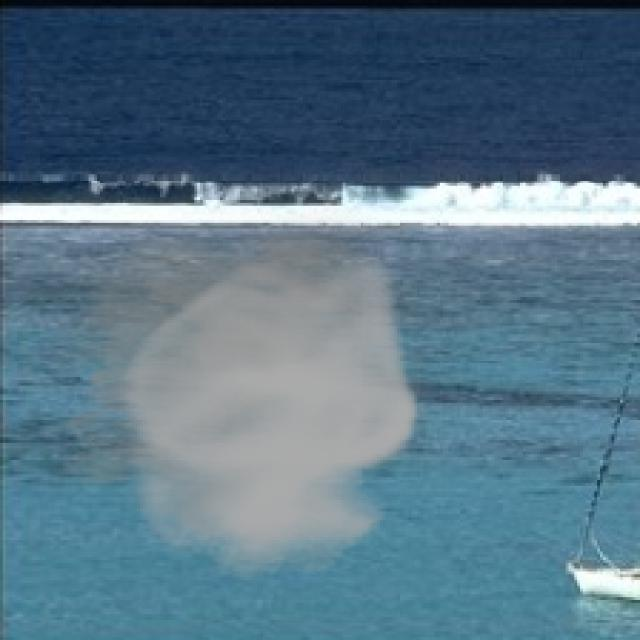smoke: (14, 206, 426, 580)
